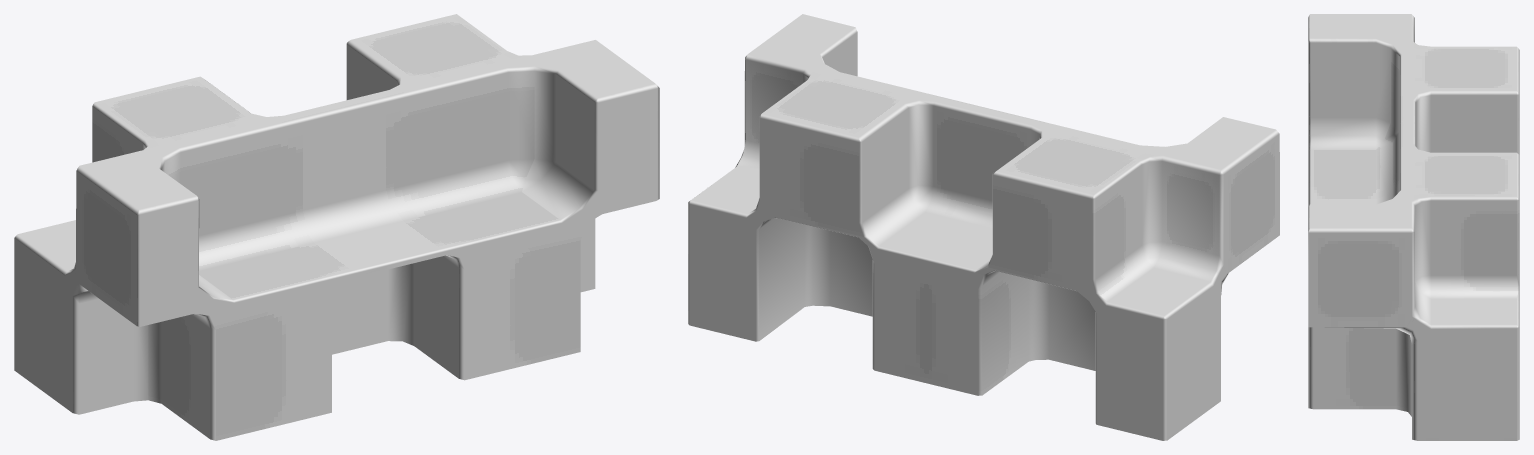
Rendered from rmk_stt_chairL.dae.
3 views of the same model, side by side, from view 1: azimuth 30°, elevation 25°; view 2: azimuth 150°, elevation 25°; view 3: azimuth 270°, elevation 25° (orthographic). The views are drawn at different scales.
Parts seen in each view (by area): view 1: rmk_stt_chairL; view 2: rmk_stt_chairL; view 3: rmk_stt_chairL.
Boxes of the visible parts, x1=… form: rmk_stt_chairL: x1=14, y1=14, x2=659, y2=440; rmk_stt_chairL: x1=688, y1=14, x2=1279, y2=440; rmk_stt_chairL: x1=1308, y1=14, x2=1519, y2=440.
Size of the model in its own units: 62.29 by 28.38 by 25.69.
1 material, 1 textured.
